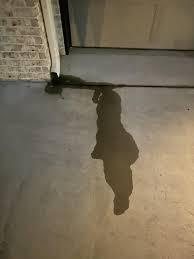water accumulation: (42, 68, 140, 216)
